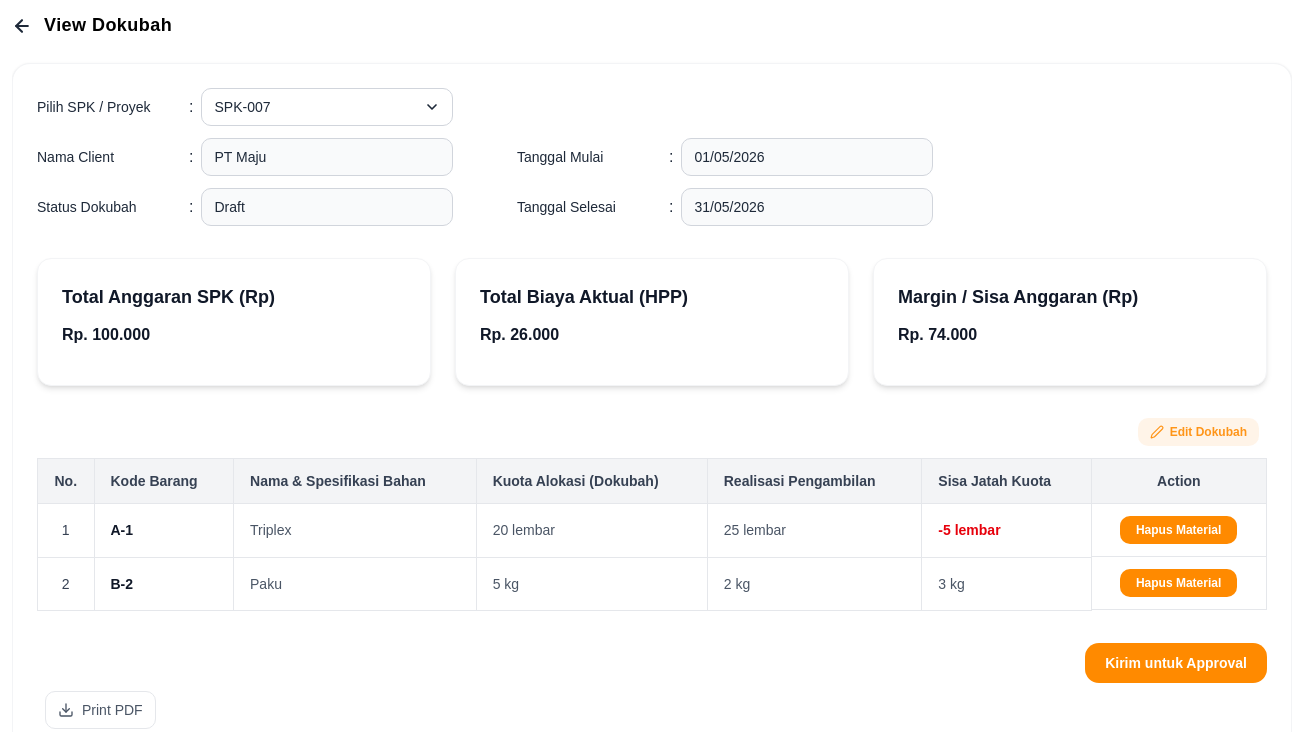
it: approval flow › submits from DRAFT and shows the response
Click the button "Kirim untuk Approval" at {"x": 1176, "y": 662}, box top-left (1085, 642), bottom-right (1267, 682)
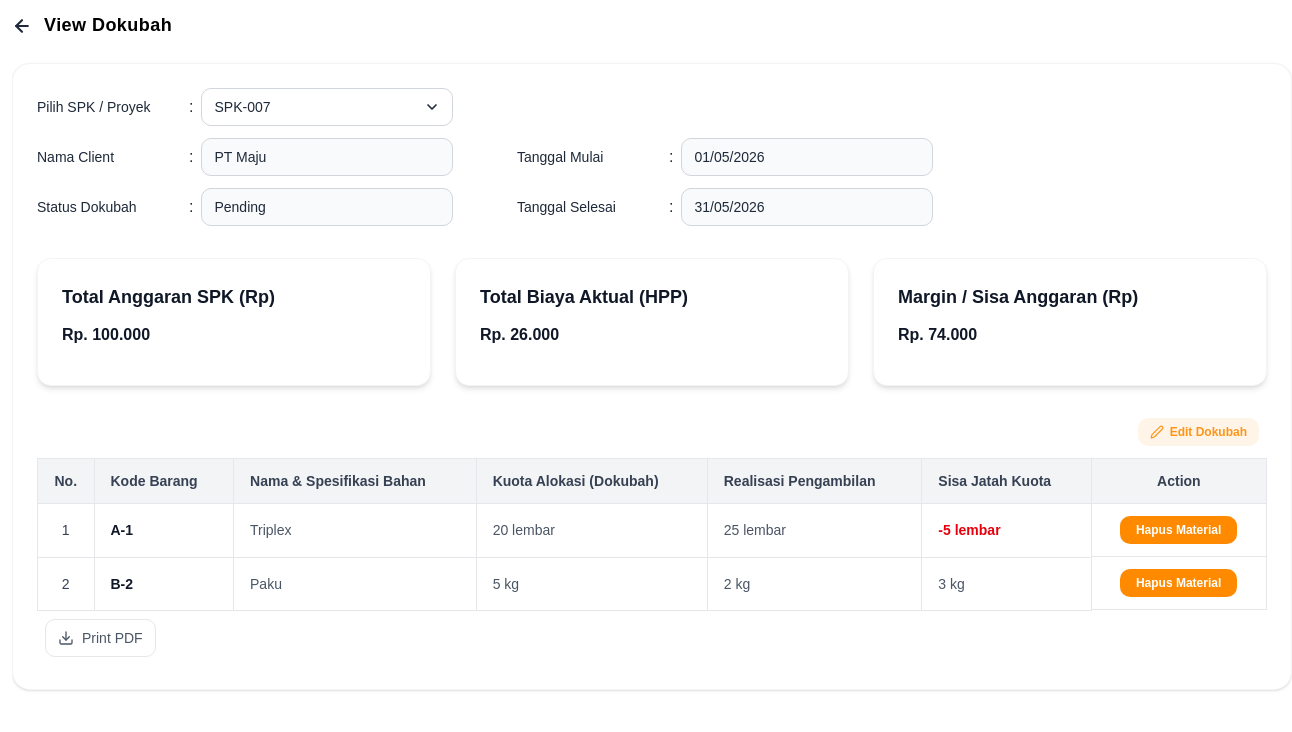
Expected: the field labelled "Status Dokubah" holds "Pending", top-left (202, 188), bottom-right (453, 226)
Expected: the button "Kirim untuk Approval" is gone
